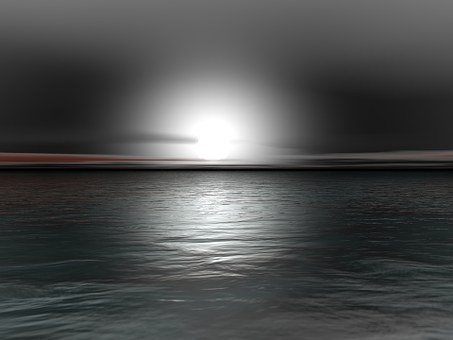sea: (10, 167, 446, 340)
sky: (5, 4, 448, 165)
